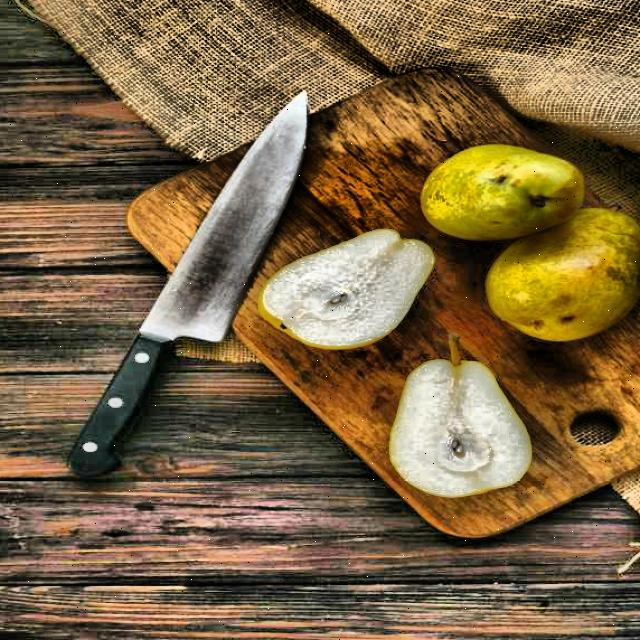knife: (46, 84, 323, 484)
